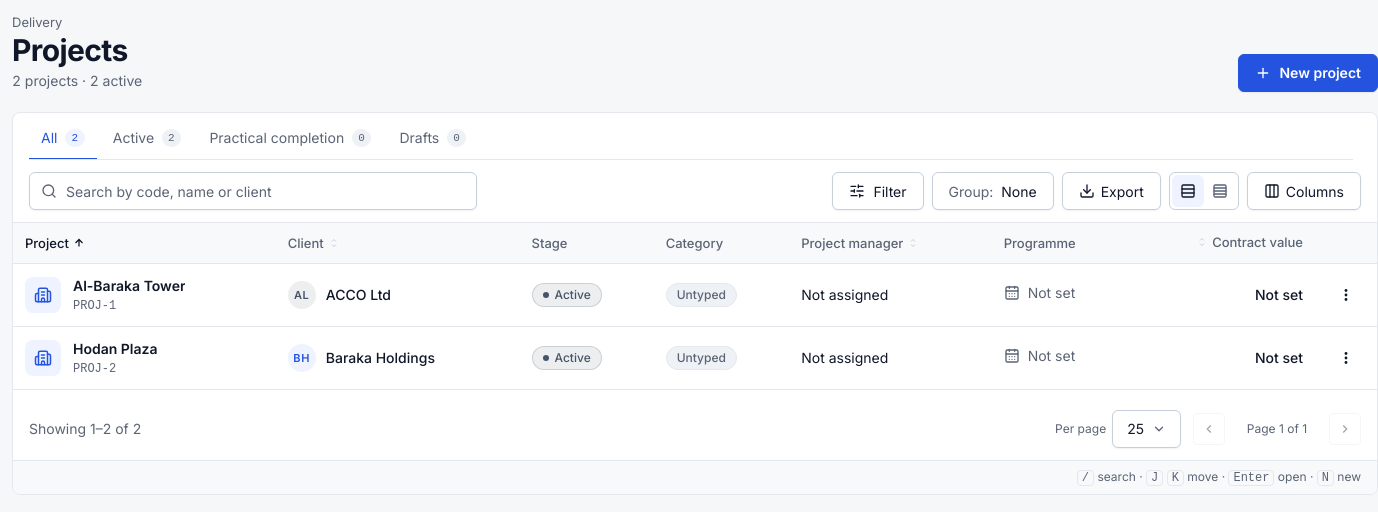
Test: ProjectsList › filters by search across code, name, and client
Expected: the link "Al-Baraka Tower PROJ-1" is shown, x1=25 y1=276 x2=186 y2=312
Type "ACCO" into the search field named "Search projects".
click(253, 191); type("ACCO")  # box x1=29 y1=172 x2=477 y2=210
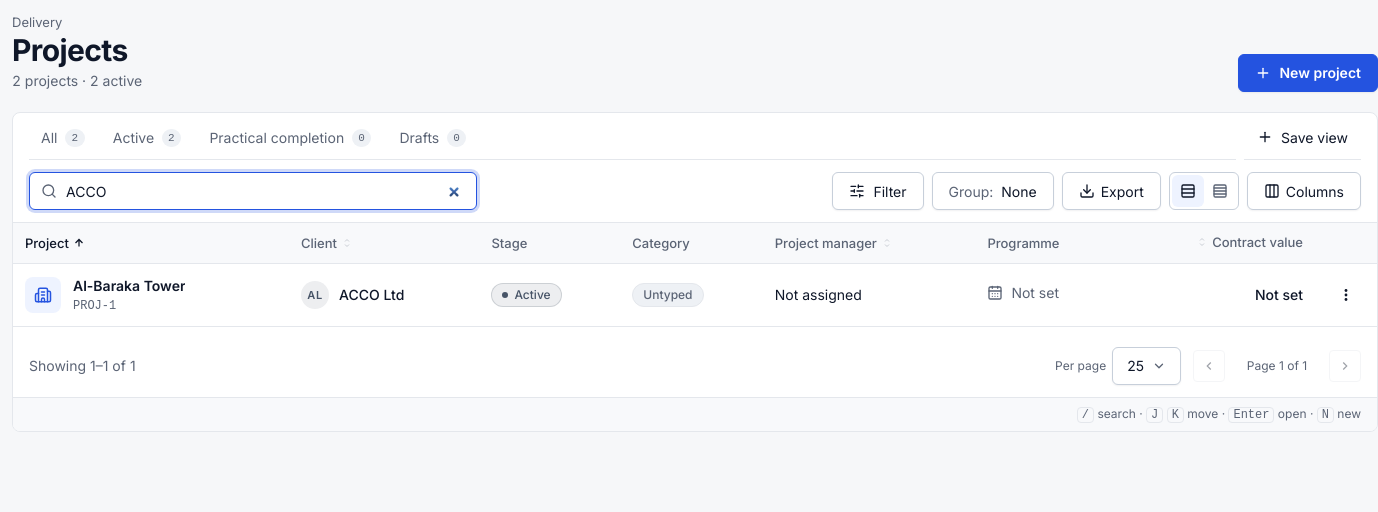
Expected: the link "Al-Baraka Tower PROJ-1" is shown, x1=25 y1=276 x2=186 y2=312
Expected: no links "Hodan Plaza" are shown
